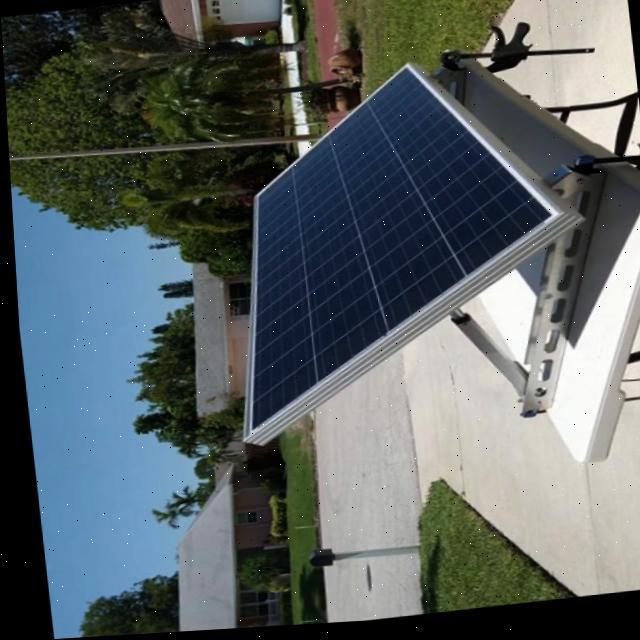Normal Solar Panel: (202, 54, 582, 446)
